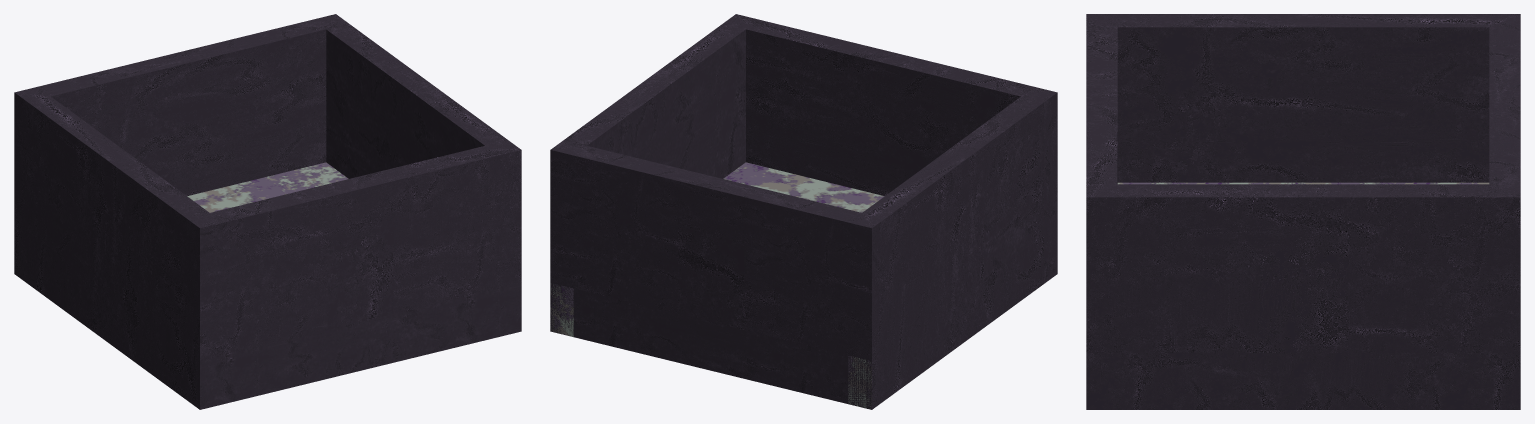
Rendered from dungeonpreset.fbx.
The picture shows the model from 3 angles, left to right: view 1: azimuth 30°, elevation 25°; view 2: azimuth 150°, elevation 25°; view 3: azimuth 270°, elevation 25°; orthographic projection. The views are drawn at different scales.
Parts seen in each view (by area): view 1: SouthWalDoorway, SouthWall, WestWall, Northwall, EastWall, WestWallDoorway, NorthWallDoorway, Cube, WestWallPlug; view 2: NorthWallDoorway, WestWall, SouthWall, Northwall, EastWall, WestWallDoorway, NorthwallPlug, Cube, WestWallPlug; view 3: EastwallDoorway, EastWall, WestWall, NorthWallDoorway, SouthWall, Cube.
Boxes of the visible parts, <box> form: SouthWalDoorway: <box>200,146,521,409</box>; SouthWall: <box>200,146,521,360</box>; WestWall: <box>14,92,209,409</box>; Northwall: <box>51,29,326,195</box>; EastWall: <box>326,14,520,178</box>; WestWallDoorway: <box>14,93,199,360</box>; NorthWallDoorway: <box>15,14,335,96</box>; Cube: <box>187,162,348,212</box>; WestWallPlug: <box>14,93,208,407</box>; NorthWallDoorway: <box>550,145,871,409</box>; WestWall: <box>862,92,1057,409</box>; SouthWall: <box>736,14,1056,195</box>; Northwall: <box>550,150,871,360</box>; EastWall: <box>551,14,745,178</box>; WestWallDoorway: <box>872,97,1057,359</box>; NorthwallPlug: <box>550,146,871,409</box>; Cube: <box>723,162,884,212</box>; WestWallPlug: <box>863,92,1057,408</box>; EastwallDoorway: <box>1086,184,1520,409</box>; EastWall: <box>1086,184,1520,352</box>; WestWall: <box>1087,14,1519,182</box>; NorthWallDoorway: <box>1489,14,1520,197</box>; SouthWall: <box>1086,14,1117,197</box>; Cube: <box>1117,182,1489,184</box>.
Bounding box in the file's own units: 533 × 288 × 533.
